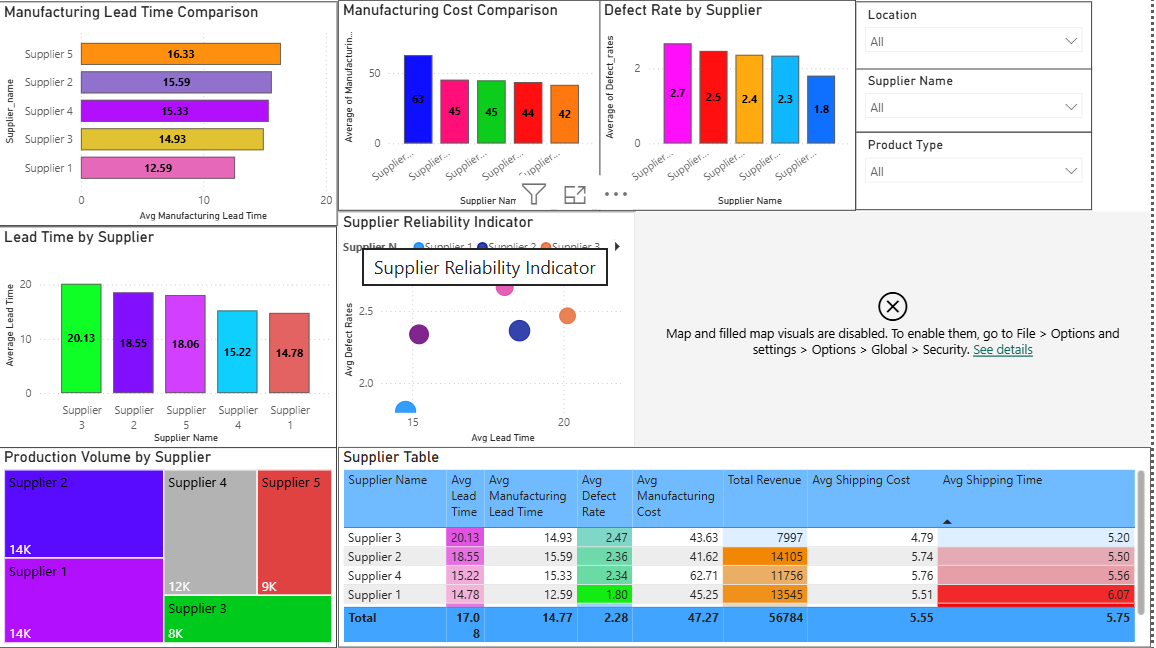

Layout of this report page (visuals, bound fields, positions):
{"tool":"powerbi","page":{"name":"Supplier Performance","canvas":[1280,720],"ordinal":2},"visuals":[{"type":"barChart","title":"Manufacturing Lead Time Comparison","fields":{"Category":["supply_chain_table.Supplier_name"],"Y":["Avg(supply_chain_table.Manufacturing_lead_time)"]},"box":[0,1.9,376.1,249.5],"z":0},{"type":"clusteredColumnChart","title":"Defect Rate by Supplier","fields":{"Y":["Avg(supply_chain_table.Defect_rates)"],"Category":["supply_chain_table.Supplier_name"]},"box":[667.1,0,285.4,234.3],"z":1000},{"type":"clusteredColumnChart","title":"Manufacturing Cost Comparison","fields":{"Category":["supply_chain_table.Supplier_name"],"Y":["Avg(supply_chain_table.Manufacturing_costs)"]},"box":[376.1,0,291,234.3],"z":2000},{"type":"treemap","title":"Production Volume by Supplier","fields":{"Group":["supply_chain_table.Supplier_name"],"Values":["Sum(supply_chain_table.Production_volumes)"]},"box":[0,497.1,375.7,223.5],"z":3000},{"type":"scatterChart","title":"Supplier Reliability Indicator","fields":{"X":["Avg(supply_chain_table.Lead_time)"],"Y":["Avg(supply_chain_table.Defect_rates)"],"Series":["supply_chain_table.Supplier_name"],"Size":["Sum(supply_chain_table.Production_volumes)"]},"box":[376.1,234.3,330.7,262.7],"z":4000},{"type":"map","title":"Supplier Location Map","fields":{"Category":["supply_chain_table.Location"],"Size":["Sum(supply_chain_table.Production_volumes)"]},"box":[706.8,234.3,572.6,262.7],"z":5000},{"type":"clusteredColumnChart","title":"Lead Time by Supplier","fields":{"Category":["supply_chain_table.Supplier_name"],"Y":["Avg(supply_chain_table.Lead_time)"]},"box":[0,251,375.7,246.1],"z":6000},{"type":"tableEx","title":"Supplier Table","fields":{"Values":["supply_chain_table.Supplier_name","Avg(supply_chain_table.Lead_time)","Avg(supply_chain_table.Manufacturing_lead_time)","Avg(supply_chain_table.Defect_rates)","Avg(supply_chain_table.Manufacturing_costs)","Sum(supply_chain_table.Production_volumes)","Avg(supply_chain_table.Shipping_costs)","Avg(supply_chain_table.Shipping_times)"]},"box":[376.1,497,903.3,223],"z":7000},{"type":"slicer","fields":{"Values":["supply_chain_table.Supplier_name"]},"box":[952.4,75.6,262.7,71.8],"z":8000},{"type":"slicer","fields":{"Values":["supply_chain_table.Product_type"]},"box":[952.4,147.4,262.7,86.9],"z":9000},{"type":"slicer","fields":{"Values":["supply_chain_table.Location"]},"box":[952.4,1.9,262.7,75.6],"z":10000}]}

Visuals, with their boxes in screenshot pixels (x1, y1, x2, y2), scaled from the page's 1280x720 canvas onto the 1156x648 screenshot:
"Manufacturing Lead Time Comparison" barChart: [left=0, top=2, right=340, bottom=226]
"Defect Rate by Supplier" clusteredColumnChart: [left=602, top=0, right=860, bottom=211]
"Manufacturing Cost Comparison" clusteredColumnChart: [left=340, top=0, right=602, bottom=211]
"Production Volume by Supplier" treemap: [left=0, top=447, right=339, bottom=647]
"Supplier Reliability Indicator" scatterChart: [left=340, top=211, right=638, bottom=447]
"Supplier Location Map" map: [left=638, top=211, right=1155, bottom=447]
"Lead Time by Supplier" clusteredColumnChart: [left=0, top=226, right=339, bottom=447]
"Supplier Table" tableEx: [left=340, top=447, right=1155, bottom=647]
slicer - supply_chain_table.Supplier_name: [left=860, top=68, right=1097, bottom=133]
slicer - supply_chain_table.Product_type: [left=860, top=133, right=1097, bottom=211]
slicer - supply_chain_table.Location: [left=860, top=2, right=1097, bottom=70]
